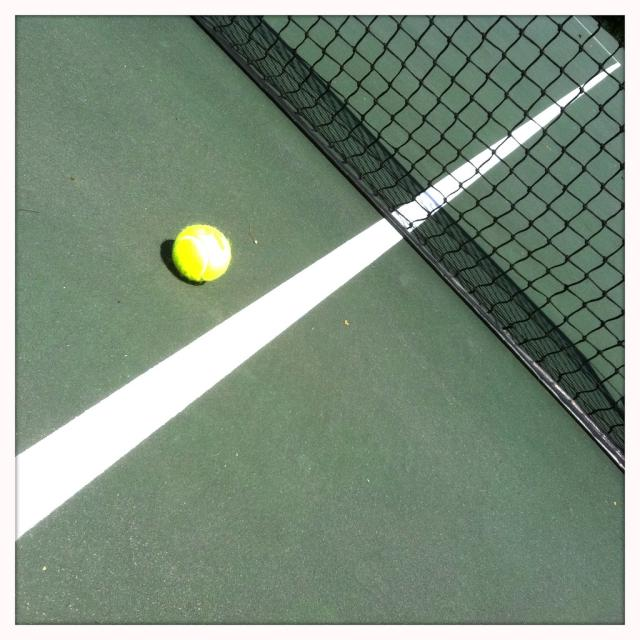Tennis ball: (171, 224, 231, 282)
